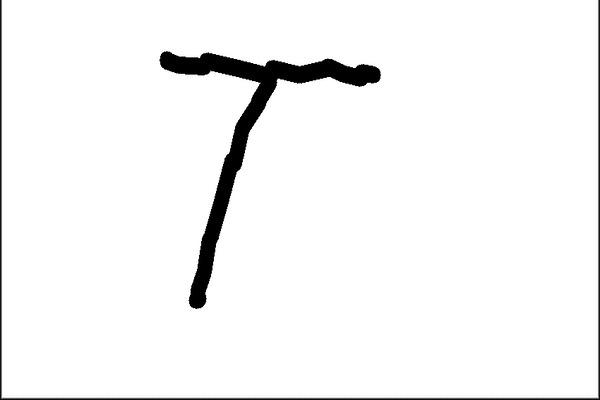T: (143, 36, 379, 309)
